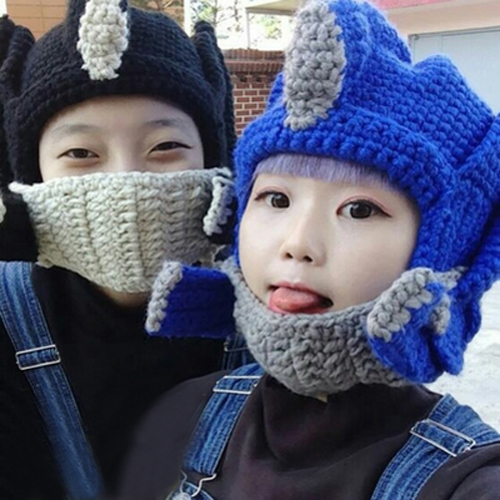face: (238, 134, 418, 351)
face_mask: (38, 76, 210, 291)
